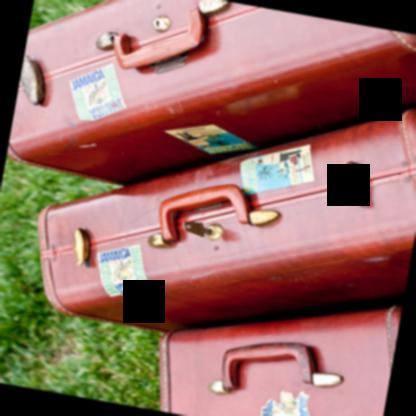suitcase: (39, 108, 416, 331), (7, 0, 416, 186), (162, 303, 402, 416)
